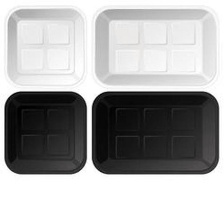foam_box: (89, 87, 222, 177), (90, 3, 222, 91), (1, 88, 88, 176), (2, 3, 88, 89)
